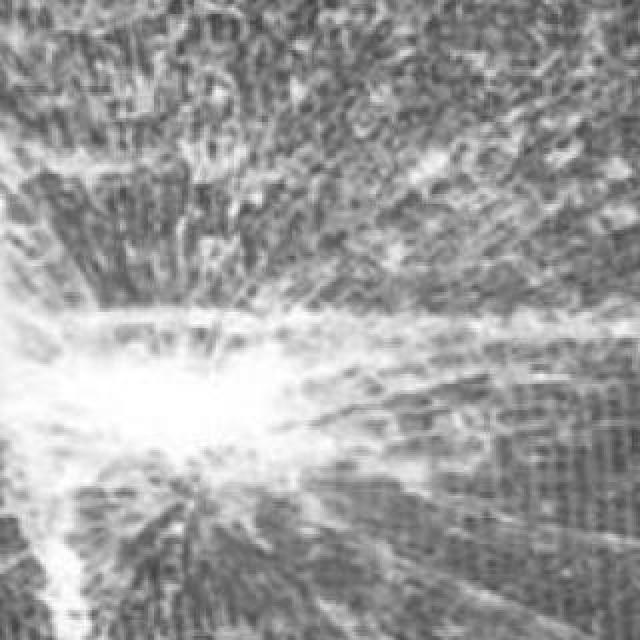Physical-damage: (0, 58, 557, 628)
